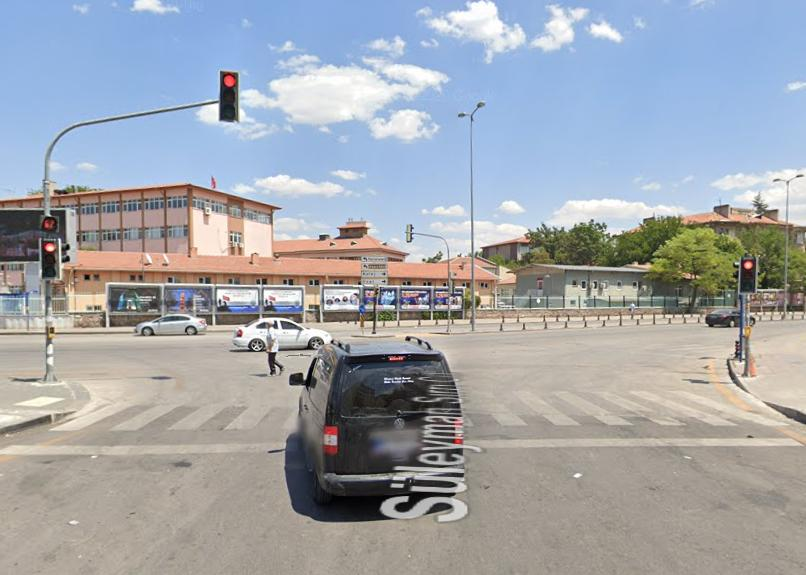redlight: (221, 70, 238, 122), (42, 238, 62, 276), (741, 257, 755, 294)
